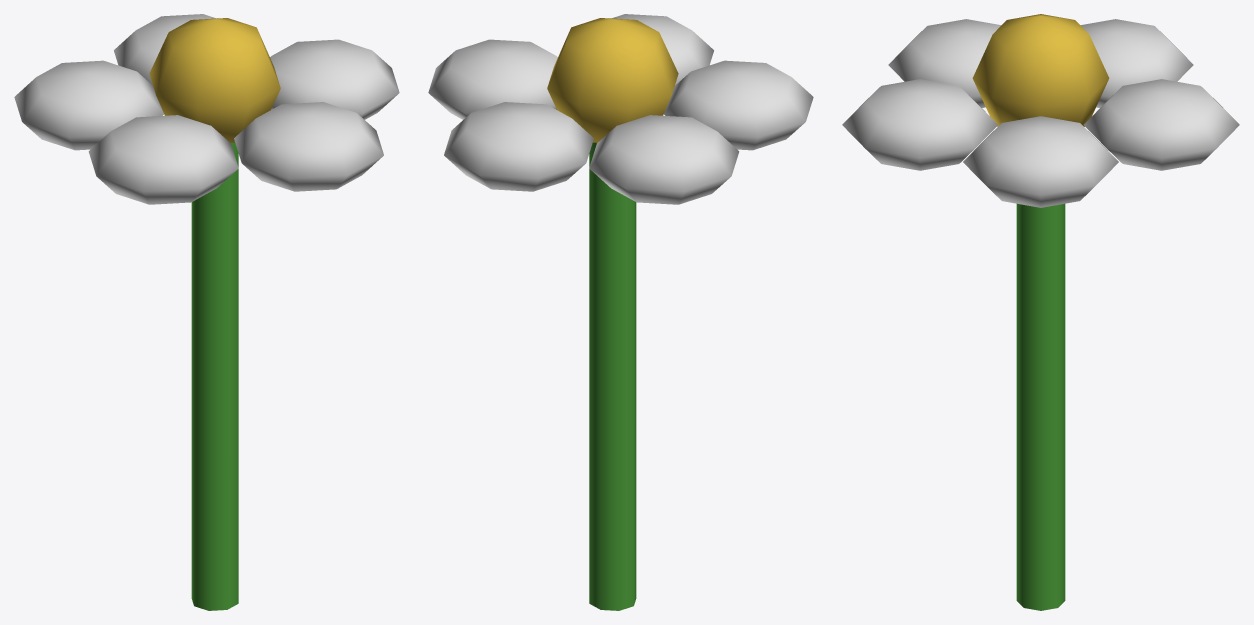
Rendered from flower_white.glb.
3 views of the same model, side by side, from view 1: azimuth 30°, elevation 25°; view 2: azimuth 150°, elevation 25°; view 3: azimuth 270°, elevation 25° (orthographic).
Visible parts, largest first — view 1: flower_white_stem, flower_white_c, flower_white_p3, flower_white_p4, flower_white_p2, flower_white_p0, flower_white_p1; view 2: flower_white_stem, flower_white_c, flower_white_p2, flower_white_p1, flower_white_p3, flower_white_p0, flower_white_p4; view 3: flower_white_stem, flower_white_c, flower_white_p1, flower_white_p4, flower_white_p0, flower_white_p2, flower_white_p3.
Part boxes in pixels (bbox=[...]): flower_white_stem: bbox=[191, 142, 238, 610]; flower_white_c: bbox=[149, 18, 280, 142]; flower_white_p3: bbox=[88, 115, 238, 204]; flower_white_p4: bbox=[234, 102, 383, 191]; flower_white_p2: bbox=[14, 60, 163, 150]; flower_white_p0: bbox=[270, 39, 399, 119]; flower_white_p1: bbox=[114, 14, 216, 85]; flower_white_stem: bbox=[589, 142, 636, 610]; flower_white_c: bbox=[547, 18, 678, 142]; flower_white_p2: bbox=[589, 115, 739, 204]; flower_white_p1: bbox=[444, 102, 593, 191]; flower_white_p3: bbox=[664, 60, 813, 150]; flower_white_p0: bbox=[428, 39, 557, 119]; flower_white_p4: bbox=[611, 14, 713, 85]; flower_white_stem: bbox=[1016, 203, 1065, 610]; flower_white_c: bbox=[972, 14, 1109, 126]; flower_white_p1: bbox=[1084, 79, 1239, 170]; flower_white_p4: bbox=[842, 79, 997, 170]; flower_white_p0: bbox=[963, 116, 1118, 207]; flower_white_p2: bbox=[1080, 19, 1193, 107]; flower_white_p3: bbox=[888, 19, 1001, 107].
Size of the model in its own units: 0.1976 by 0.33 by 0.2036.
